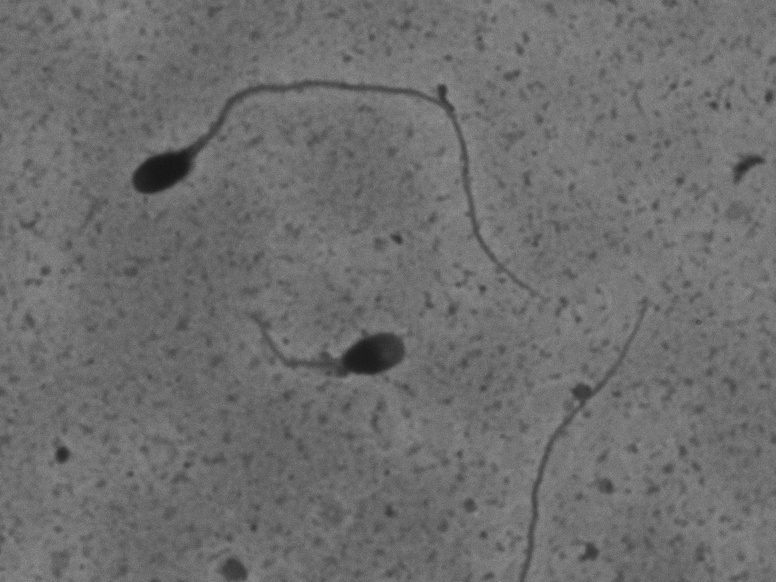Abnormal: (249, 267, 430, 401)
Normal: (117, 71, 589, 331)
